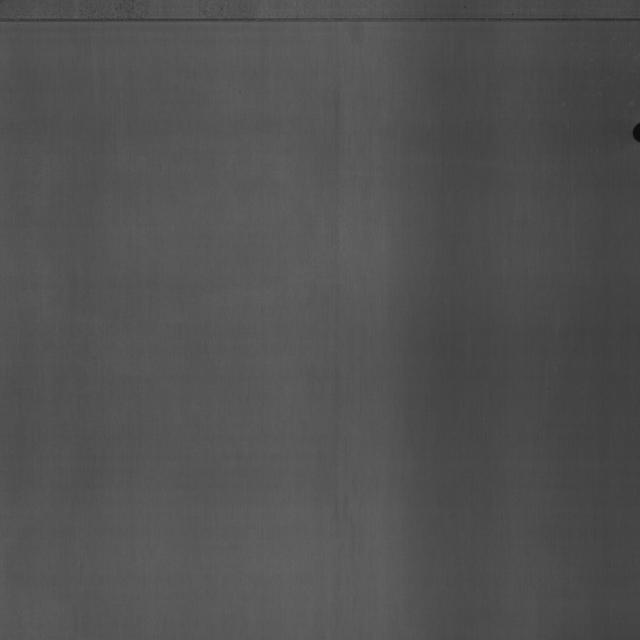crease: (1, 9, 640, 42)
crescent_gap: (632, 119, 640, 143)
